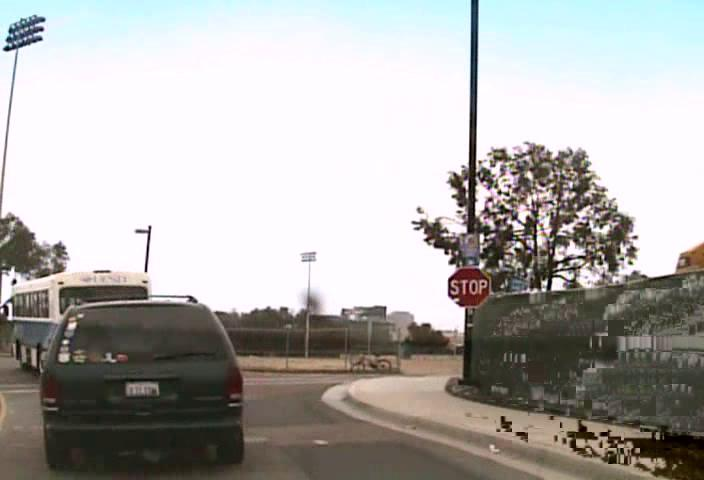stop: (446, 266, 491, 308)
